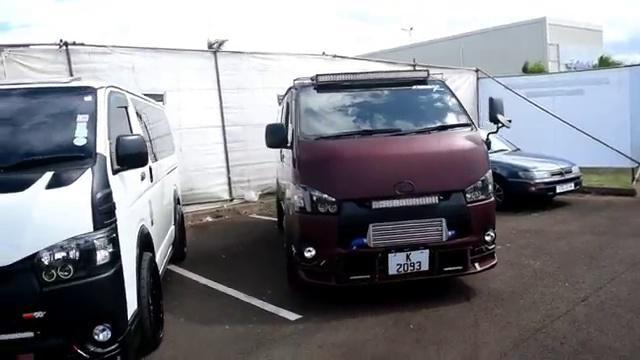Van: (276, 68, 503, 293)
